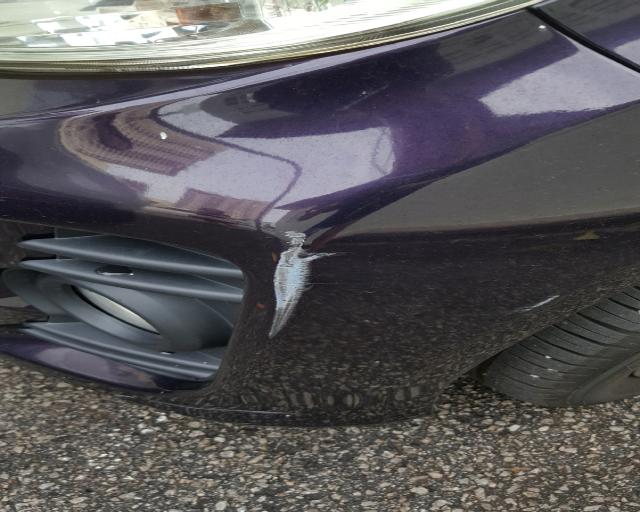scratch: (266, 230, 338, 336)
